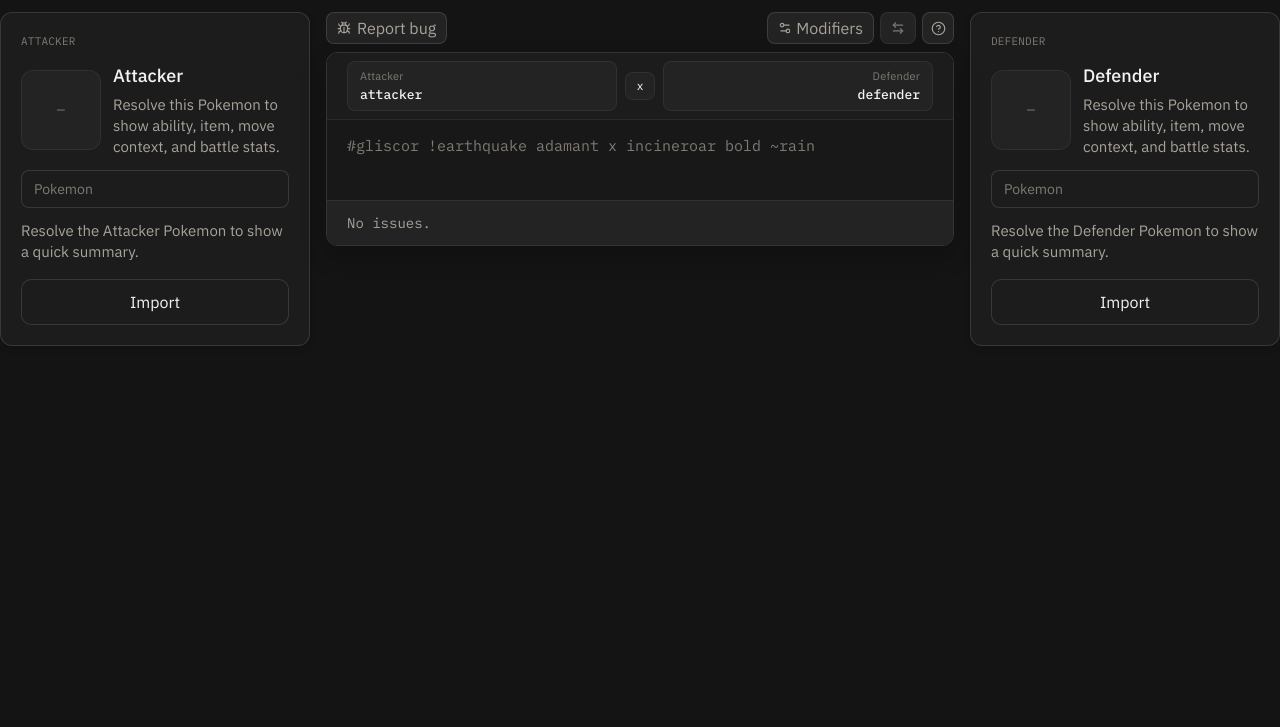
omnibar components › modifier switches stay collapsed until the modifiers button is pressed
What coordinates should you click on to do the following:
click the button with aria-label "Toggle modifiers panel"
I would click on:
 (821, 28)
Its box is [767, 12, 874, 44].
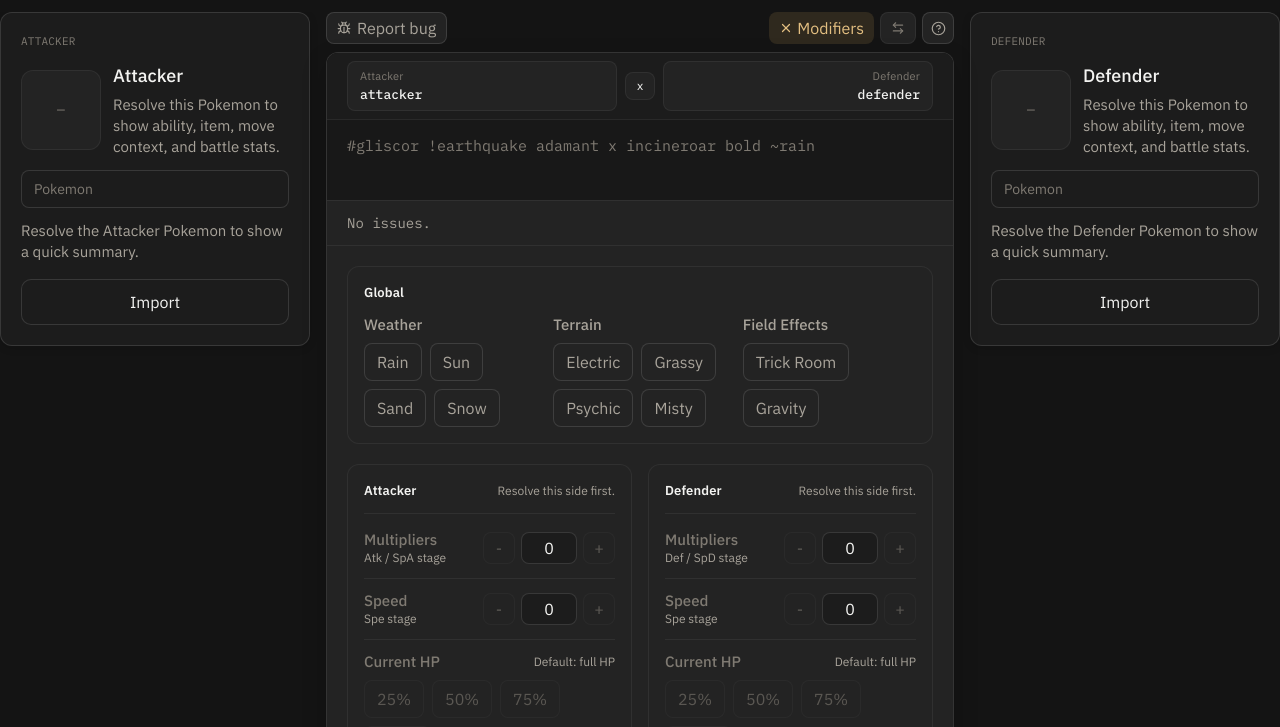
Check: the button "Rain" is shown, box [364, 343, 422, 381]
